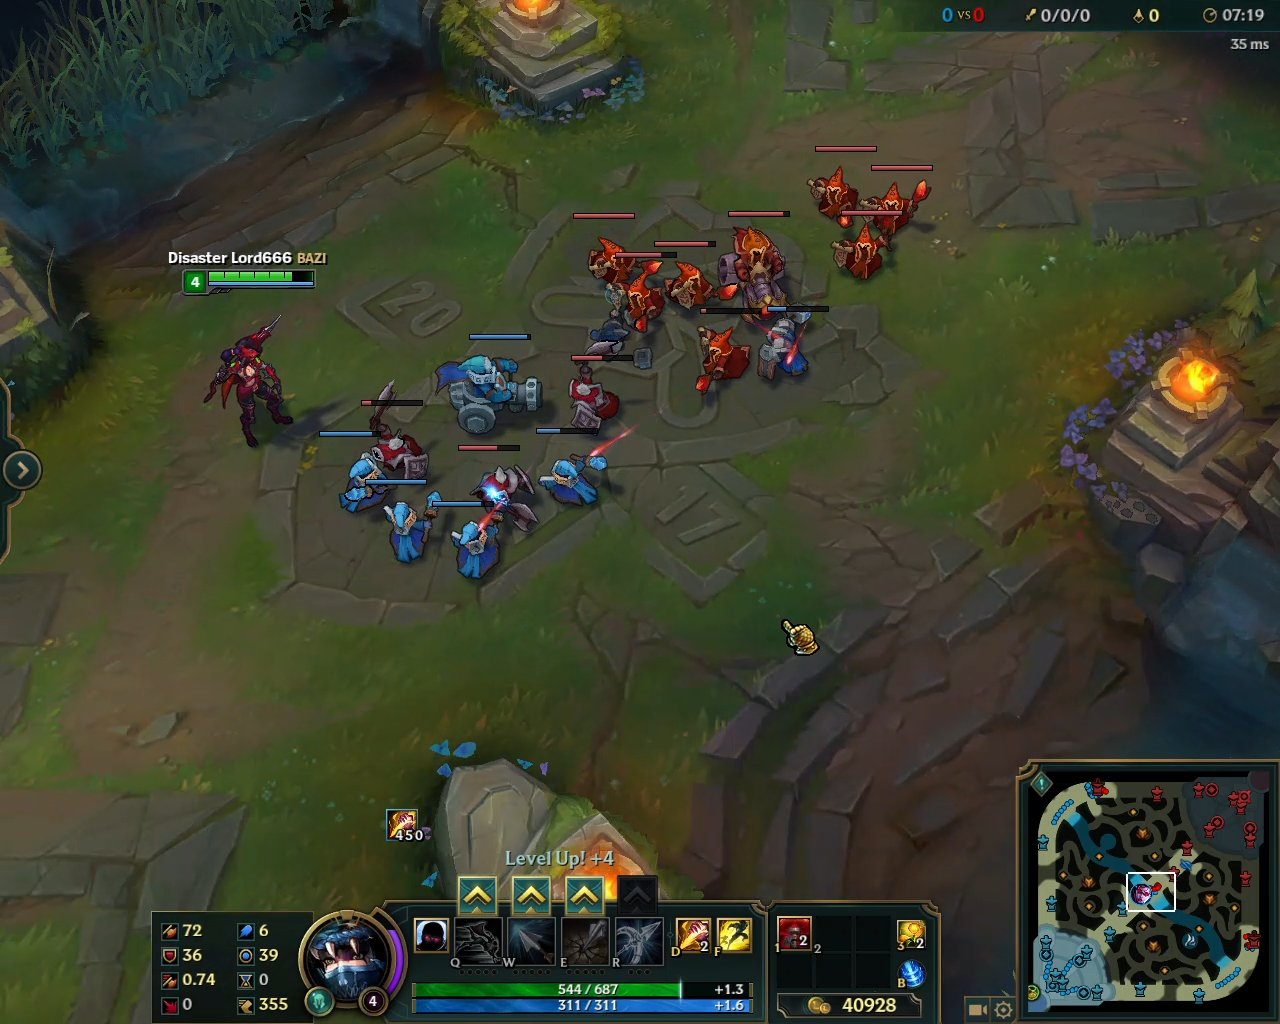EnemyMinion: (711, 210, 797, 325), (457, 443, 538, 535), (554, 351, 637, 435), (360, 382, 430, 481), (823, 209, 904, 288), (692, 306, 761, 398), (611, 252, 678, 336), (804, 146, 878, 220), (572, 212, 643, 288), (860, 165, 935, 236), (654, 236, 717, 313)
Vayne: (197, 311, 295, 460)
